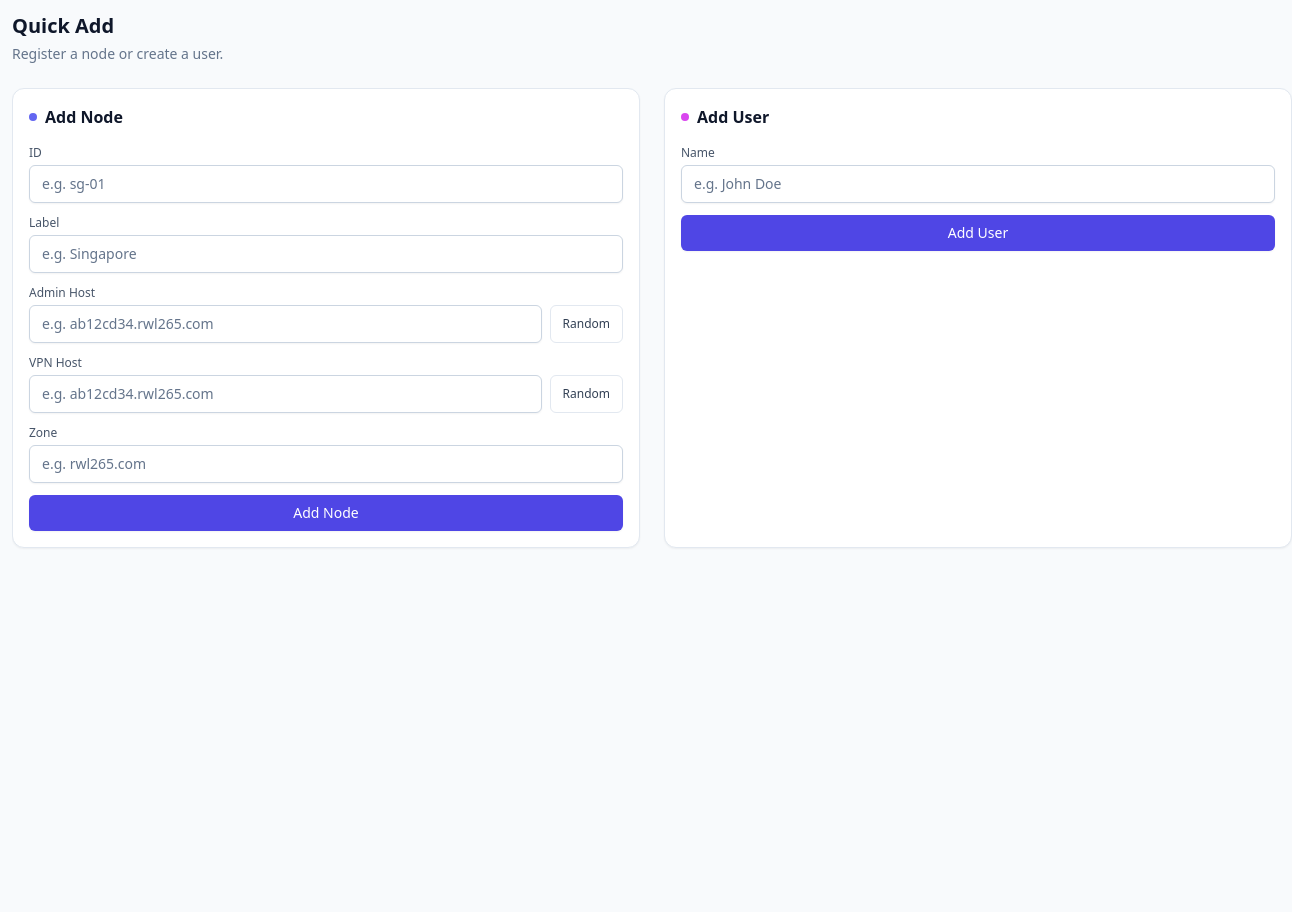
Test: add node shows validation toast when fields are empty
Click the button "Add Node". click: (326, 513)
box: [29,495,623,531]
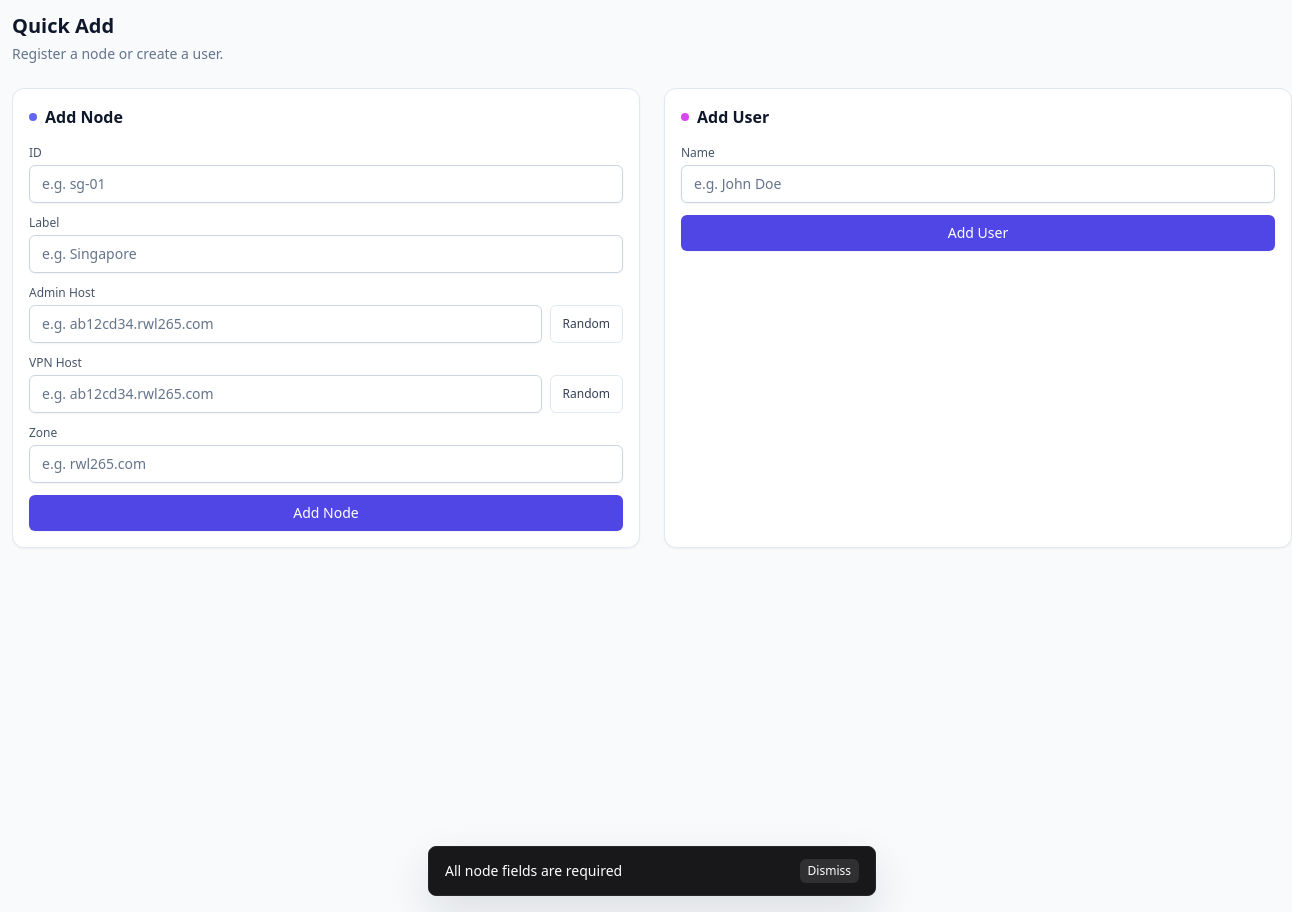
Expected: the text "All node fields are required" is shown, [445,861,622,881]
